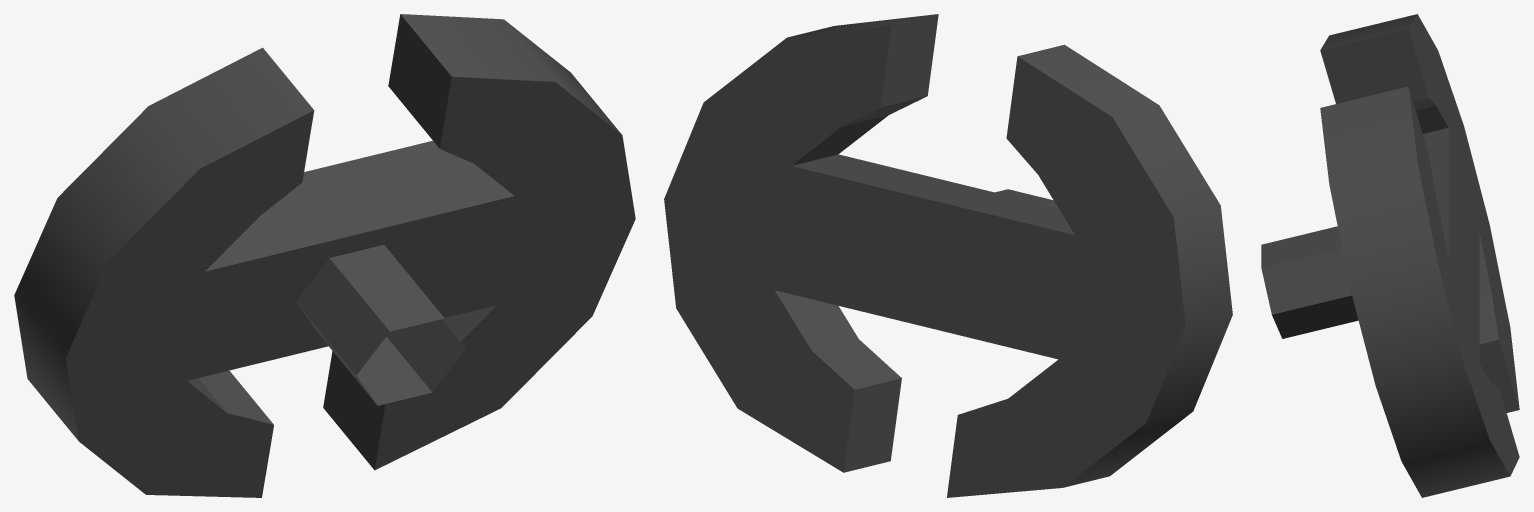
Rendered from handle.FBX.
The picture shows the model from 3 angles, left to right: view 1: azimuth 30°, elevation 25°; view 2: azimuth 150°, elevation 25°; view 3: azimuth 270°, elevation 25°; orthographic projection. The views are drawn at different scales.
Parts seen in each view (by area): view 1: Cylinder002; view 2: Cylinder002; view 3: Cylinder002.
Boxes of the visible parts, x1,y1,x2,y2 form: Cylinder002: (14, 14, 635, 497); Cylinder002: (664, 14, 1232, 497); Cylinder002: (1261, 14, 1519, 497).
Bounding box in the file's own units: 399 × 310 × 183.
Materials: 1 (1 with a texture image).
